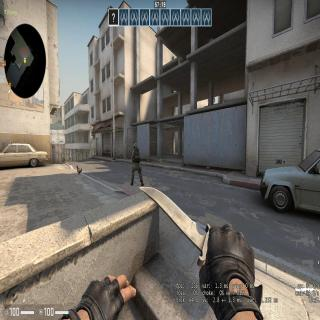CT-Body: (131, 144, 143, 183), (133, 143, 139, 151)
